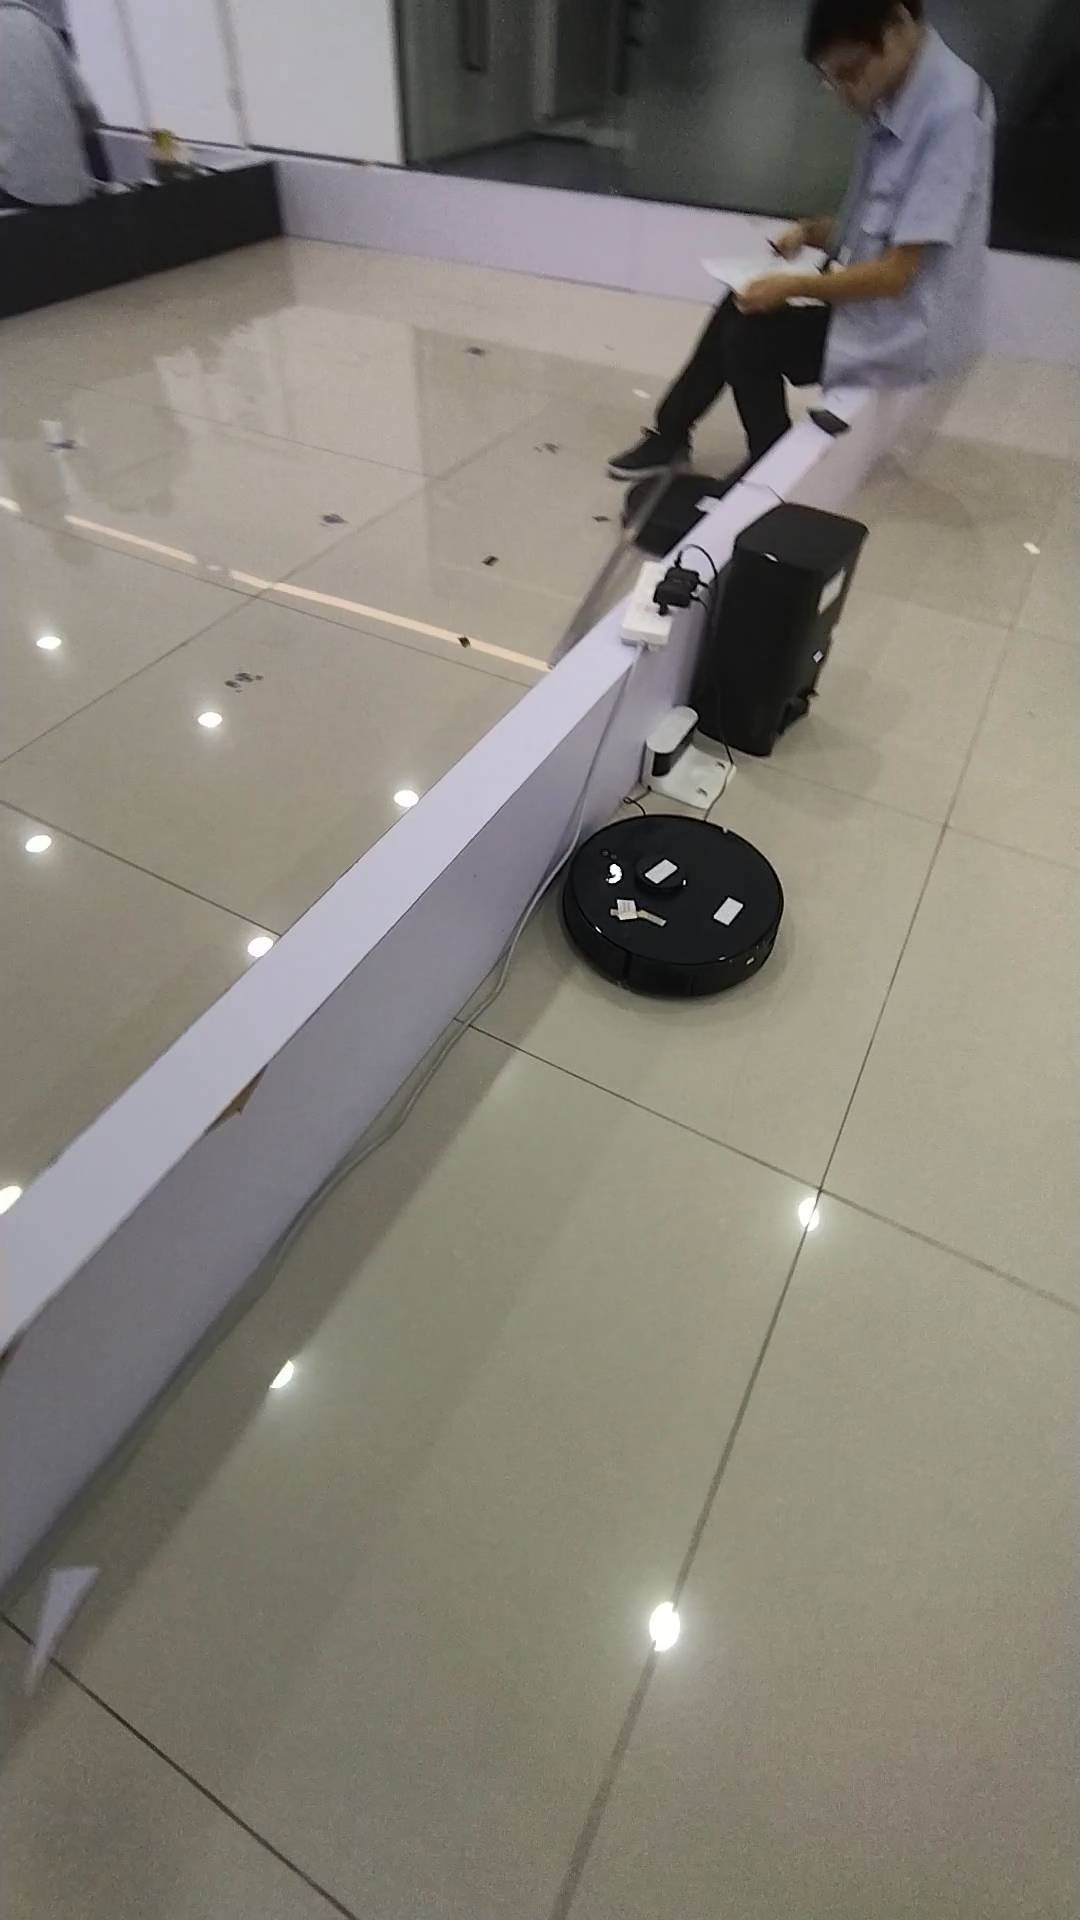dust collecting barrel: (700, 502, 876, 756)
recharge seat: (644, 705, 737, 815)
